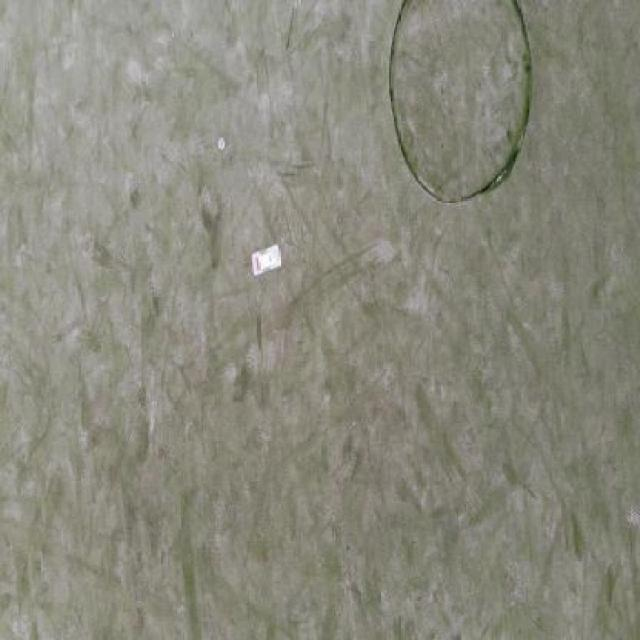Garbage: (251, 243, 281, 277), (218, 137, 225, 149)
